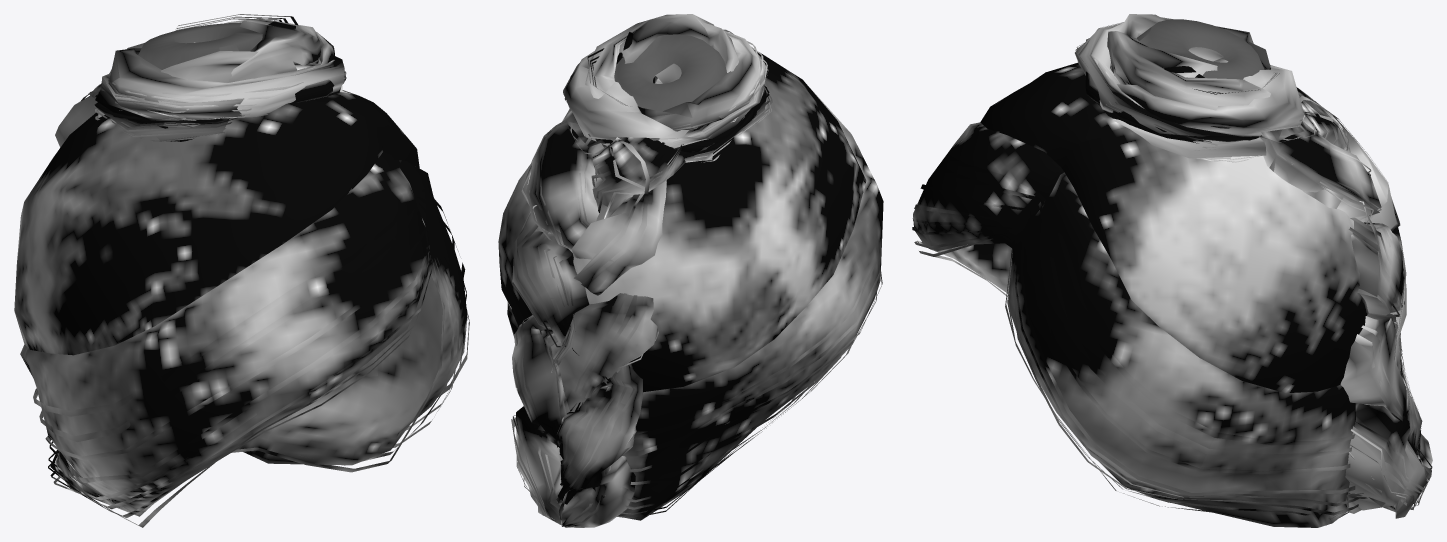
The model's file is daz_hair_french_braid_bun.glb.
3 renders of one model, left to right at view 1: azimuth 30°, elevation 25°; view 2: azimuth 150°, elevation 25°; view 3: azimuth 270°, elevation 25°, orthographic. The views are drawn at different scales.
Visible parts, largest first — view 1: daz_hair_french_braid_bun; view 2: daz_hair_french_braid_bun; view 3: daz_hair_french_braid_bun.
Part boxes in pixels (box(x1,y1,x2,y2)): daz_hair_french_braid_bun: box(14, 14, 469, 527); daz_hair_french_braid_bun: box(498, 14, 883, 527); daz_hair_french_braid_bun: box(912, 14, 1432, 527).
Bounding box in the file's own units: 0.1837 × 0.2444 × 0.2414.
Materials: 1 (1 with a texture image).
